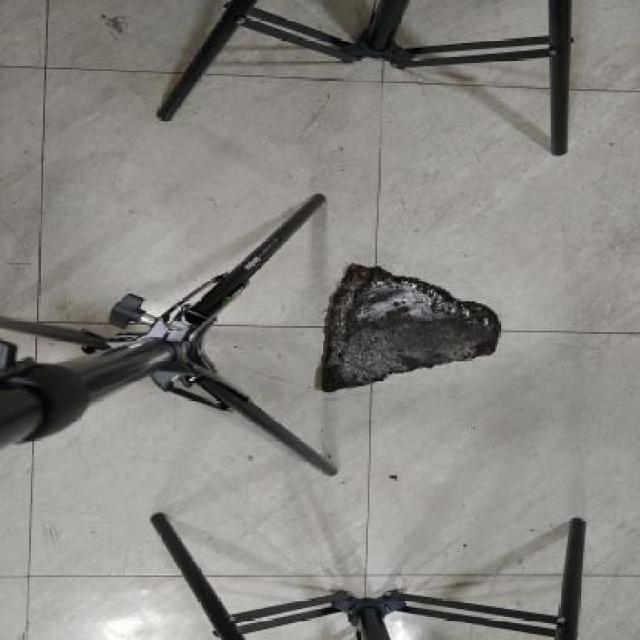Road Debris: (324, 258, 492, 342)
